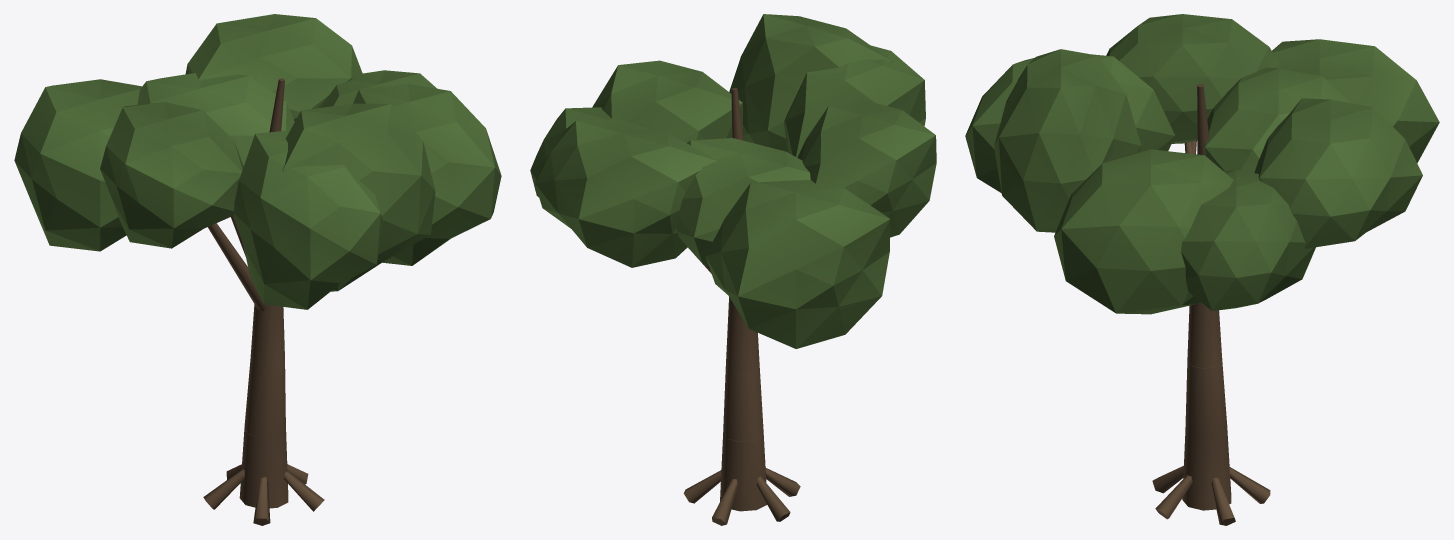
Rendered from frondosa.glb.
3 views of the same model, side by side, from view 1: azimuth 30°, elevation 25°; view 2: azimuth 150°, elevation 25°; view 3: azimuth 270°, elevation 25° (orthographic). The views are drawn at different scales.
Parts seen in each view (by area): view 1: Arvore_frondosa_12; view 2: Arvore_frondosa_12; view 3: Arvore_frondosa_12.
Boxes of the visible parts, <box> form: Arvore_frondosa_12: <box>14,14,501,525</box>; Arvore_frondosa_12: <box>530,14,936,525</box>; Arvore_frondosa_12: <box>965,14,1439,525</box>.
Bounding box in the file's own units: 6.93 × 7.54 × 7.31.
